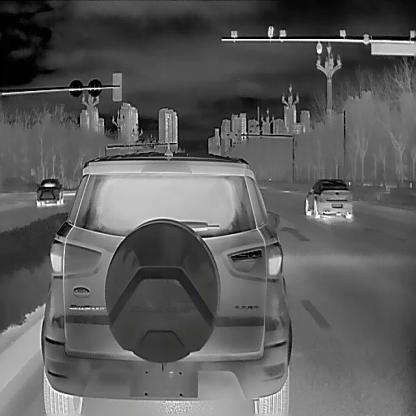car: (41, 151, 292, 415), (304, 177, 352, 218), (35, 177, 64, 205)
